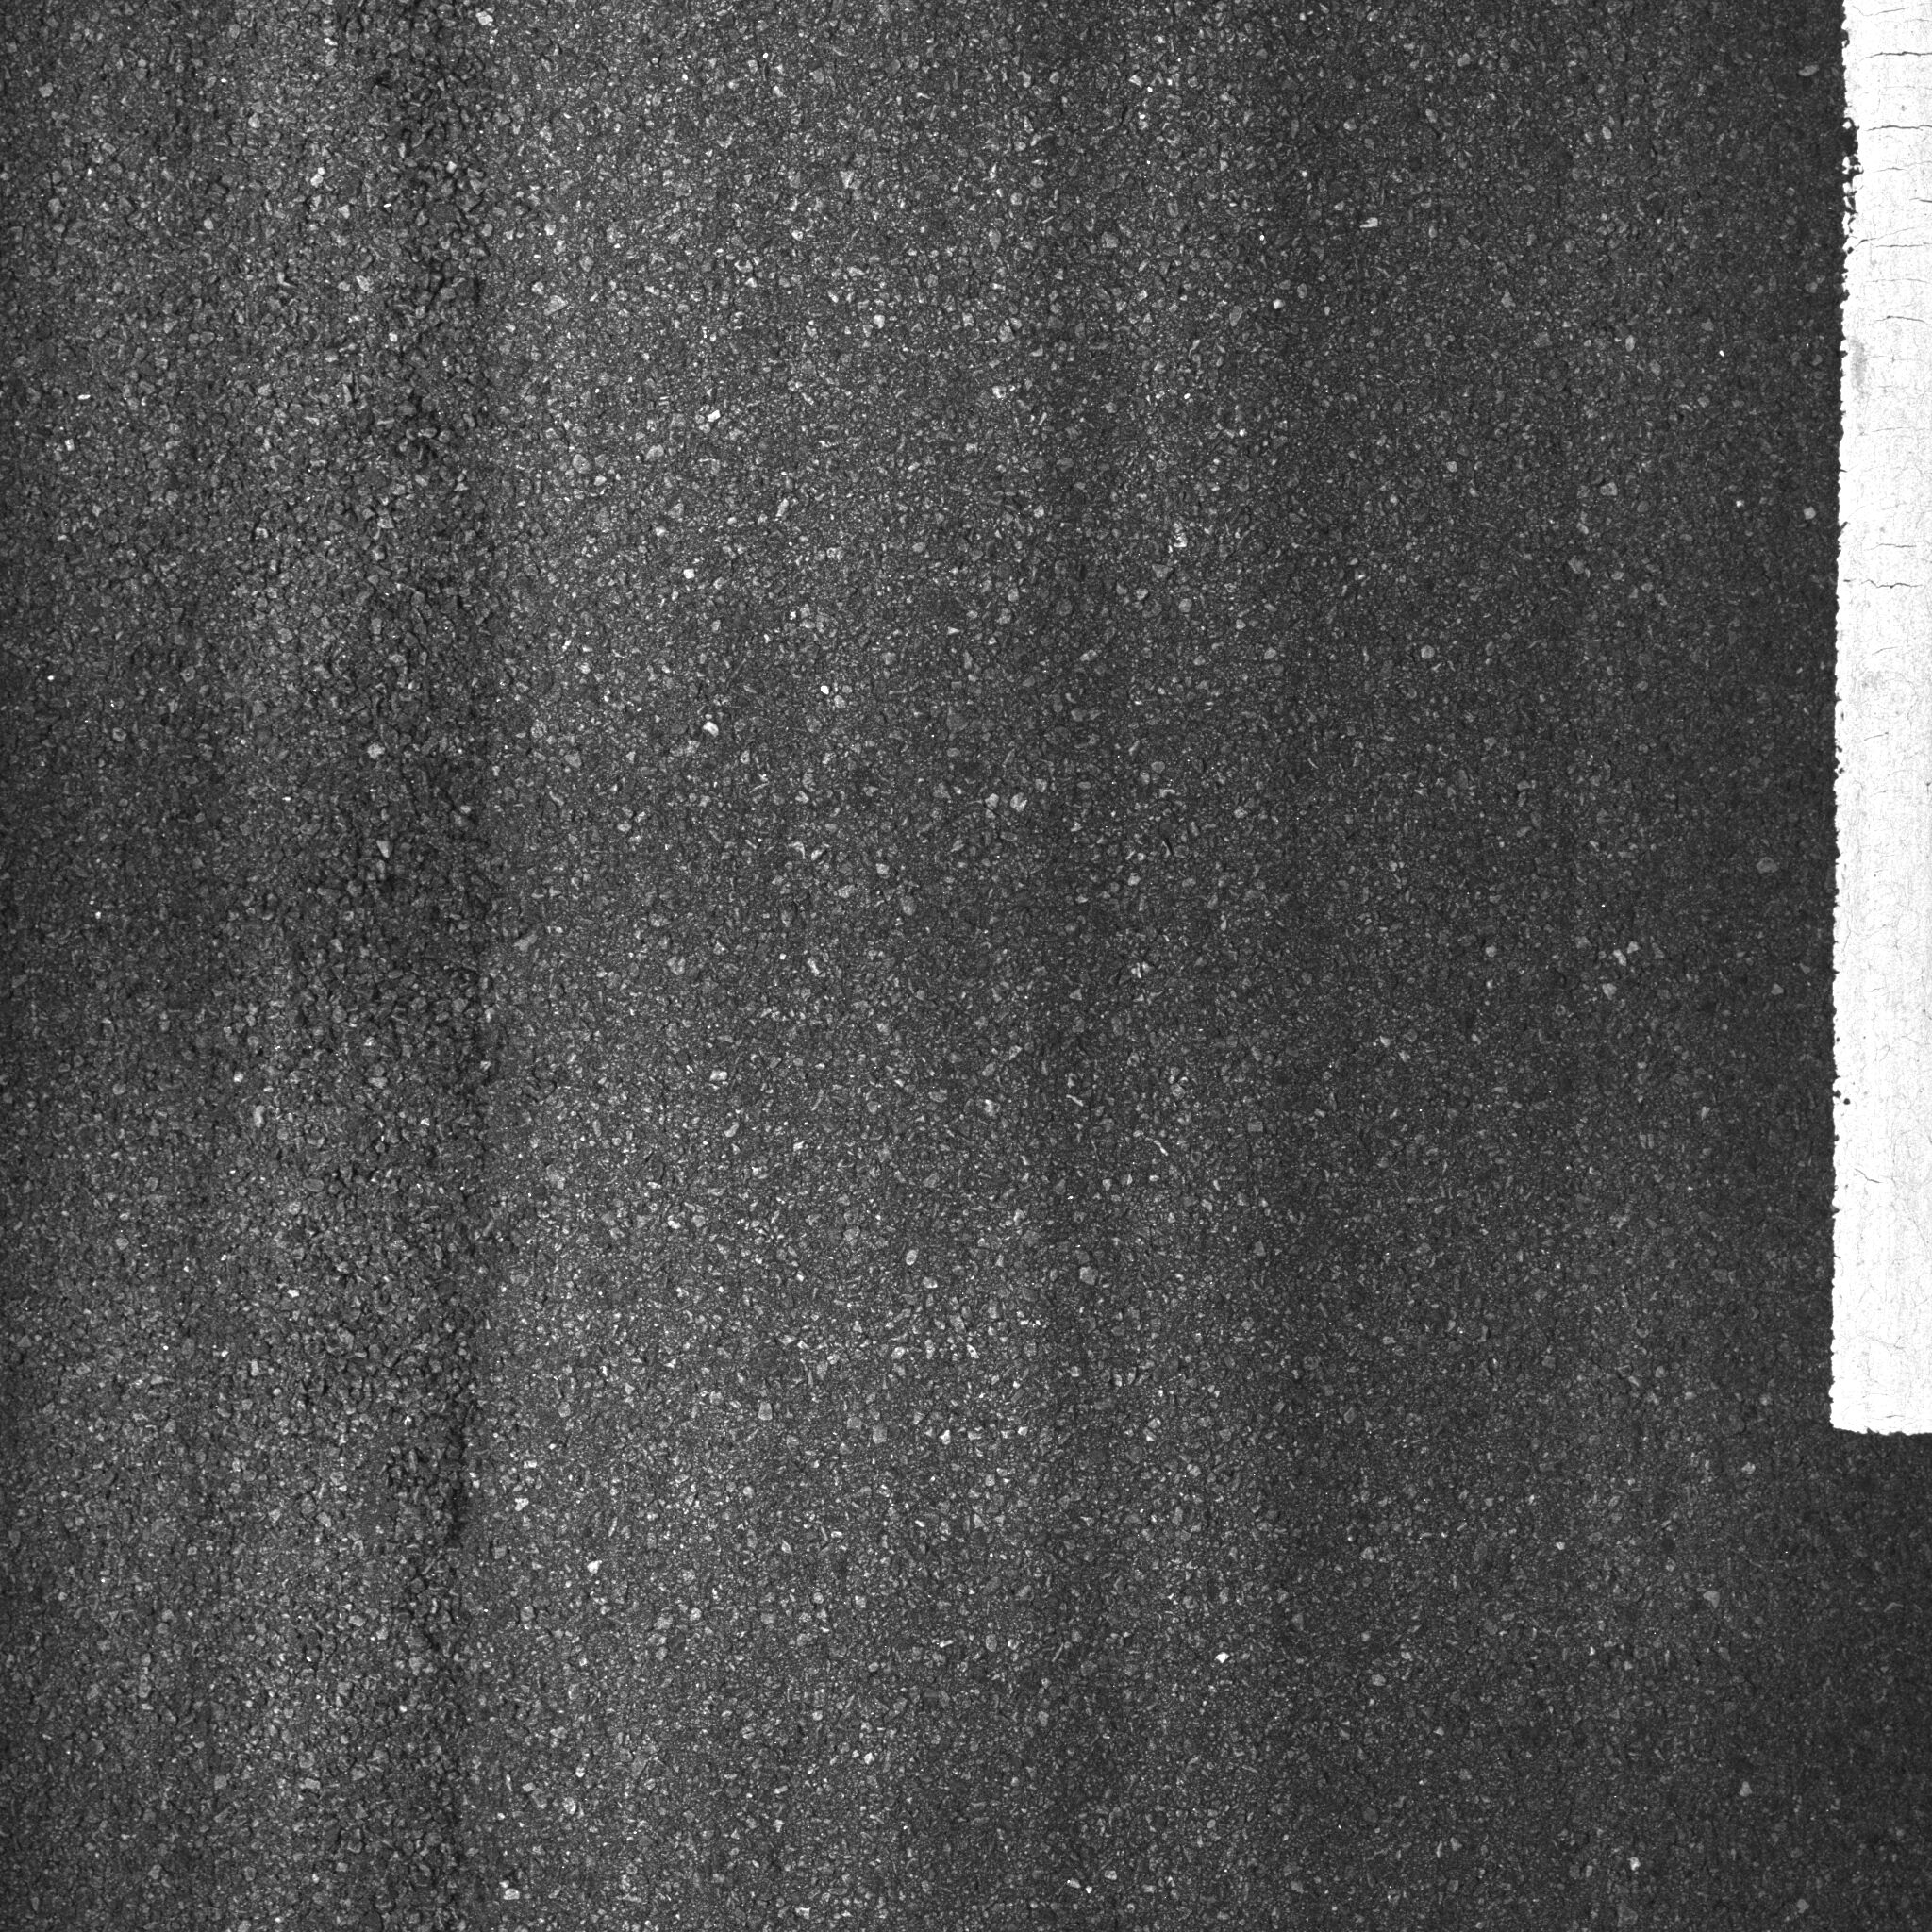longitudinal: (303, 9, 541, 1914)
